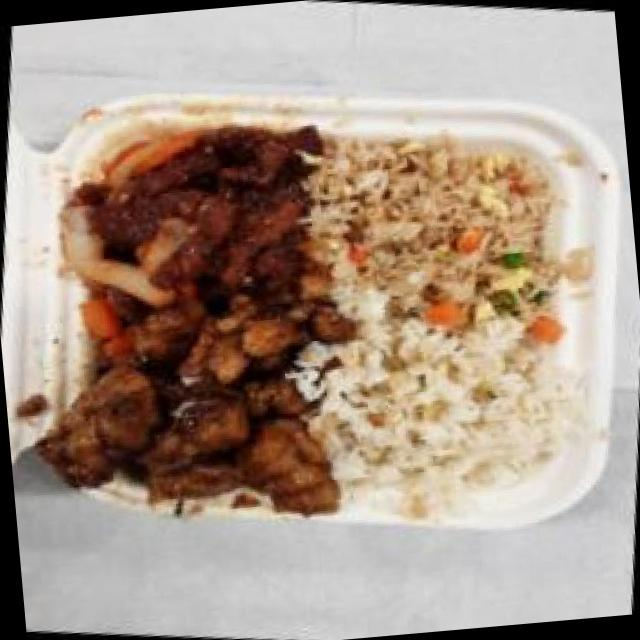Beijing Beef: (38, 89, 346, 332)
Fried Rice: (292, 110, 580, 357)
The Original Orange Chicken: (2, 268, 367, 546)
White Steamed Rice: (296, 299, 572, 522)
